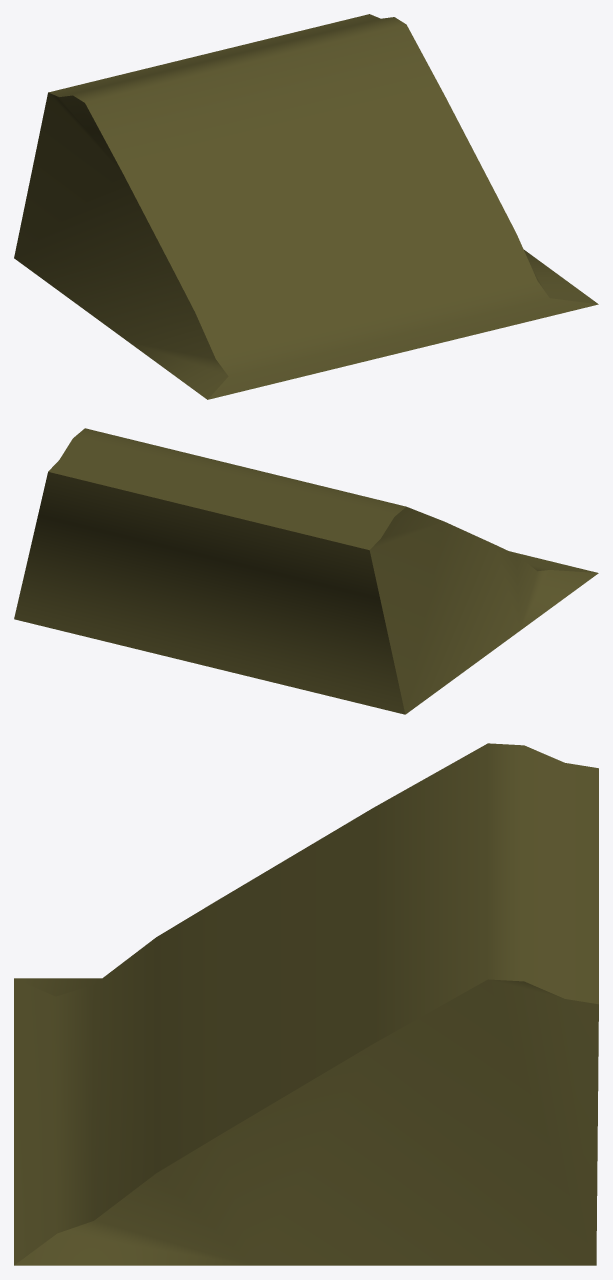
File: Stairs_Col.fbx
The picture shows the model from 3 angles, top to bottom: view 1: azimuth 30°, elevation 25°; view 2: azimuth 150°, elevation 25°; view 3: azimuth 270°, elevation 25°; orthographic projection. The views are drawn at different scales.
Visible parts, largest first — view 1: Stairs_Col; view 2: Stairs_Col; view 3: Stairs_Col.
Part boxes in pixels (box(x1,y1,x2,y2)): Stairs_Col: box(14, 14, 598, 399); Stairs_Col: box(14, 428, 598, 714); Stairs_Col: box(14, 743, 598, 1265).
Size of the model in its own units: 4.82 by 2.04 by 4.15.
